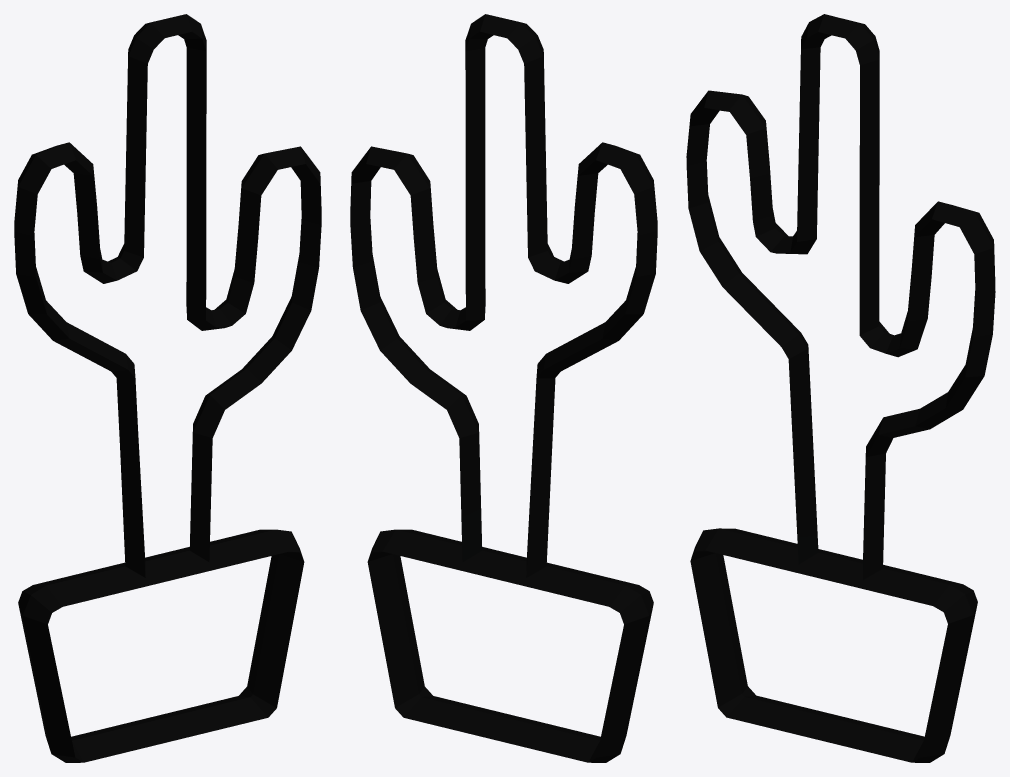
Rendered from SM_Prop_Casino_Neon_05.fbx.
The picture shows the model from 3 angles, left to right: view 1: azimuth 30°, elevation 25°; view 2: azimuth 150°, elevation 25°; view 3: azimuth 330°, elevation 25°; orthographic projection.
Visible parts, largest first — view 1: SM_Prop_Casino_Neon_05; view 2: SM_Prop_Casino_Neon_05; view 3: SM_Prop_Casino_Neon_05.
Part boxes in pixels (bbox=[...]): SM_Prop_Casino_Neon_05: bbox=[14, 14, 321, 762]; SM_Prop_Casino_Neon_05: bbox=[350, 14, 657, 762]; SM_Prop_Casino_Neon_05: bbox=[686, 14, 995, 762].
Size of the model in its own units: 59.58 by 133 by 10.01.
